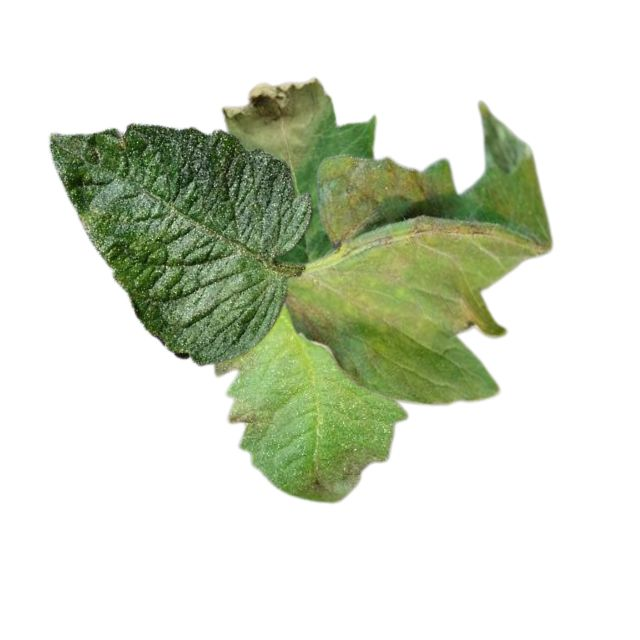Late_blight: (317, 154, 448, 252), (220, 74, 328, 170), (286, 290, 358, 380), (307, 439, 386, 503), (447, 297, 485, 336), (229, 407, 259, 426)
